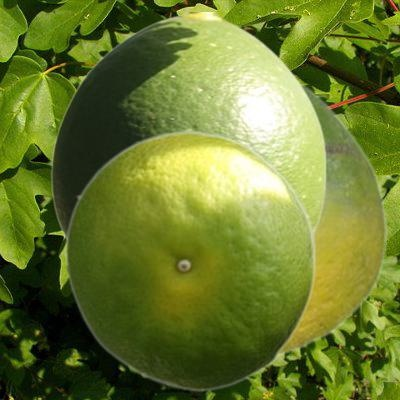dalandan: (64, 129, 315, 391), (50, 12, 326, 238), (280, 80, 387, 358)
